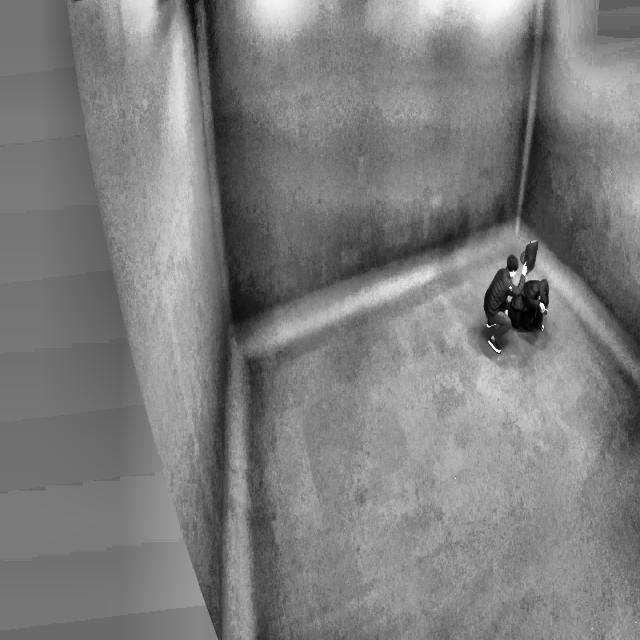assult: (478, 236, 554, 351)
